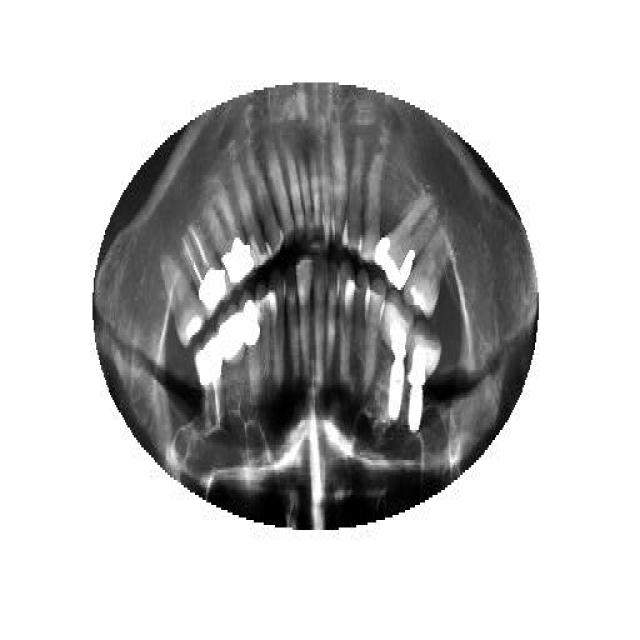Fillings: (375, 188, 439, 292), (208, 190, 254, 290), (162, 252, 204, 350), (242, 293, 260, 405), (216, 305, 245, 370)
Impacted Tooth: (375, 188, 439, 292)
Implant: (405, 315, 441, 433), (184, 215, 225, 315), (382, 298, 412, 428), (195, 333, 226, 435)
